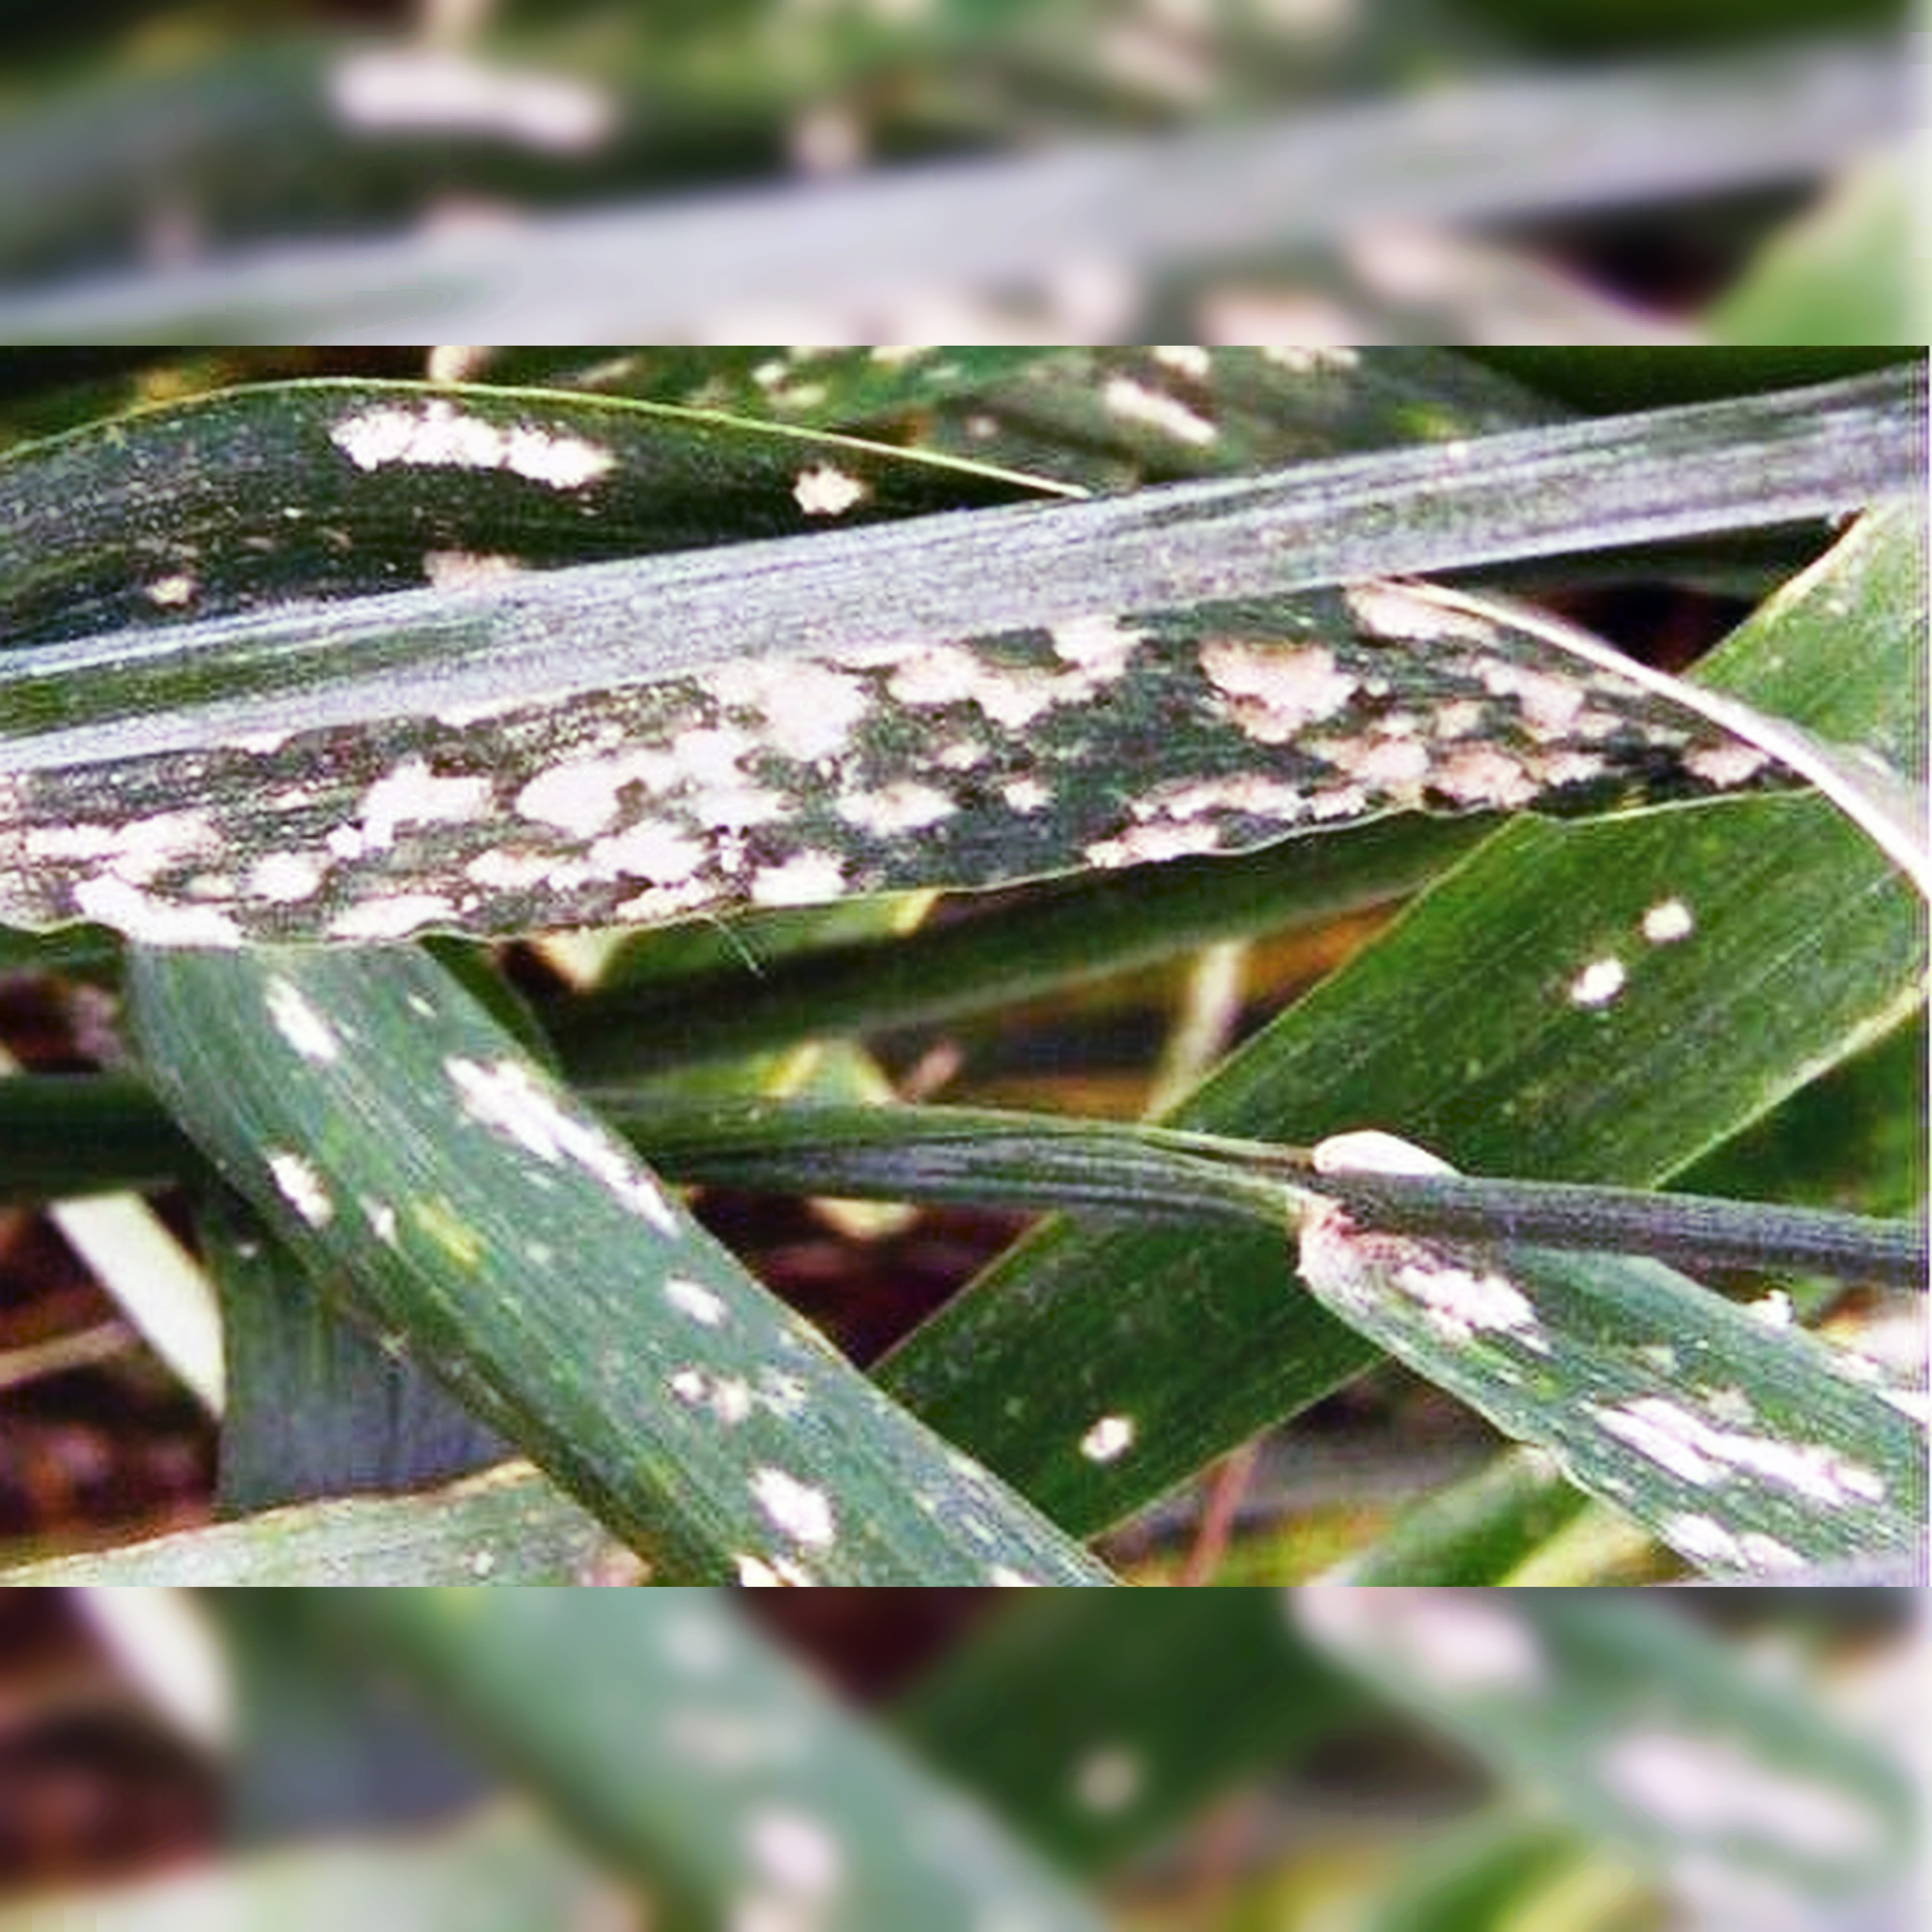Powdery Mildew: (50, 387, 1667, 947)
